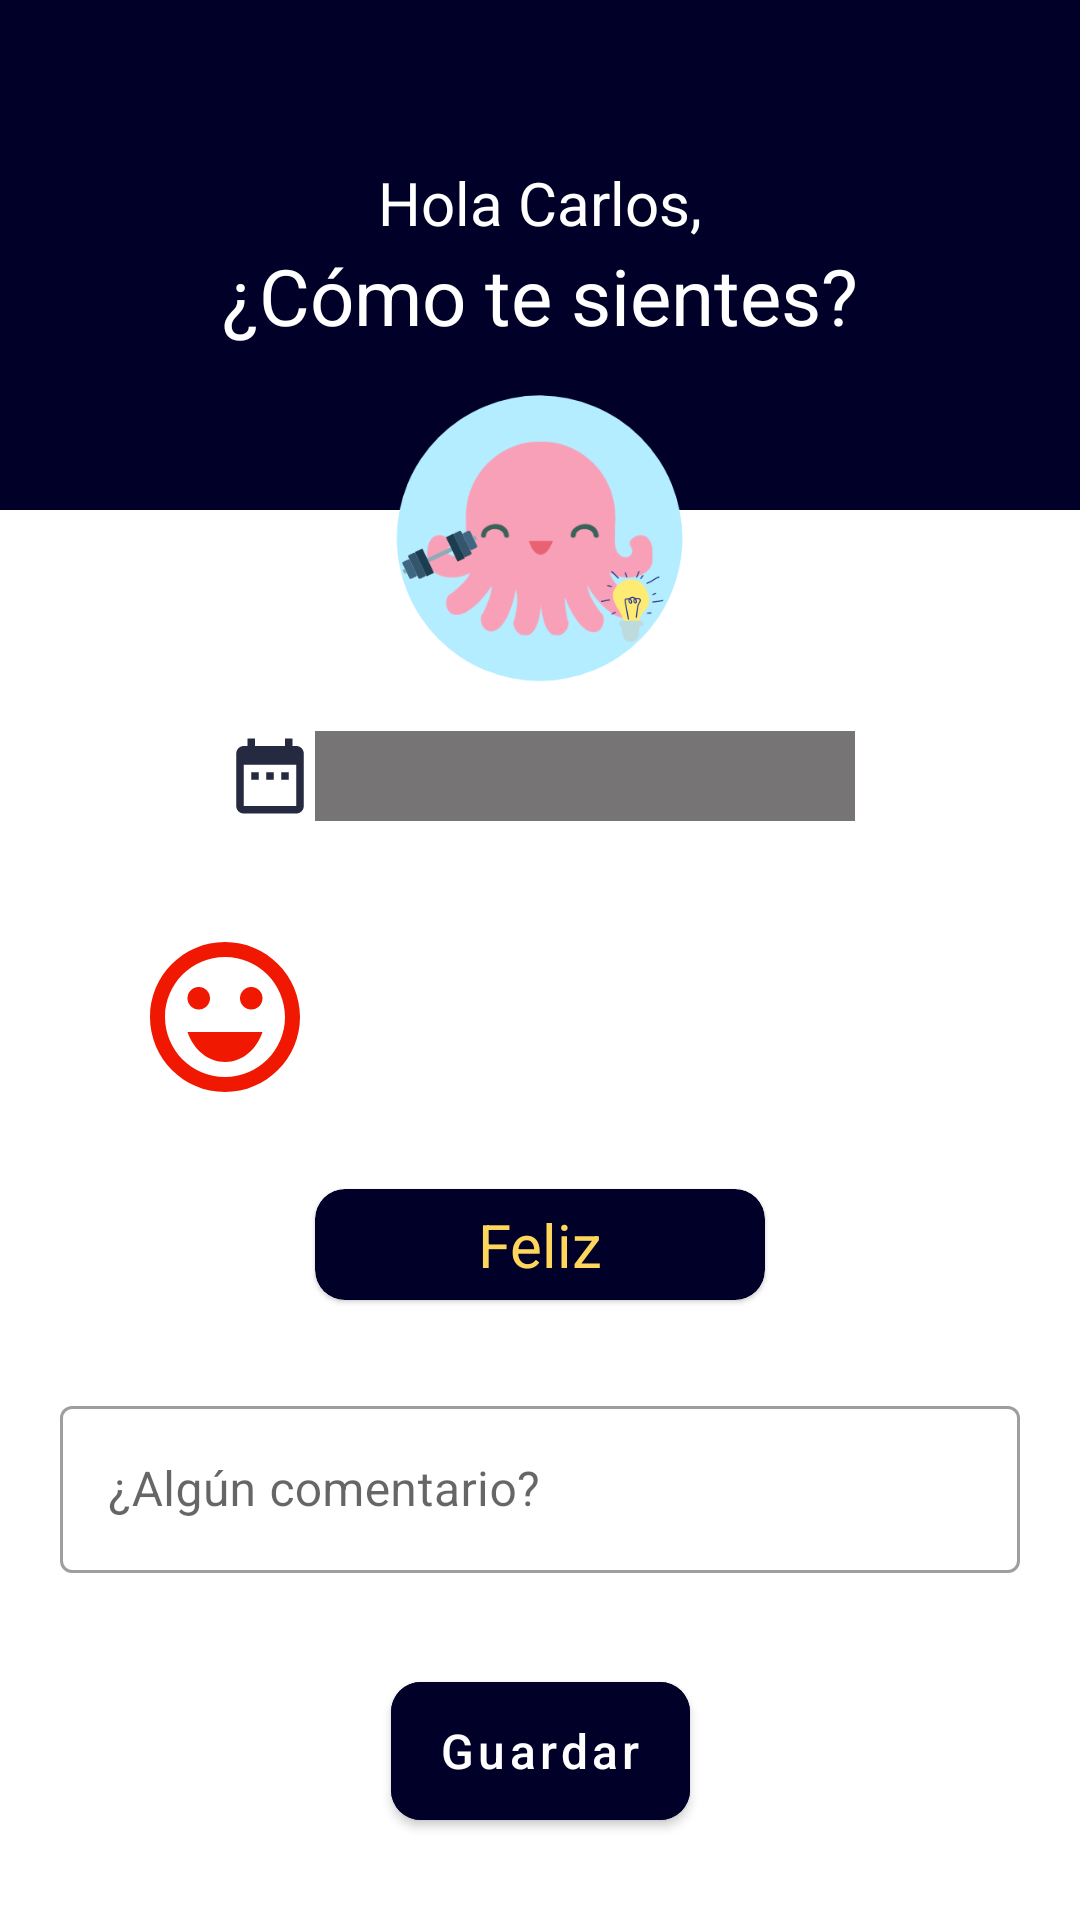

Locate icon controls on the screen. Image size 1080×1920, boxes as bbox(x1, y1, x2, y2).
date range: bbox(236, 738, 304, 814)
emoji emotions: bbox(150, 942, 300, 1092)
